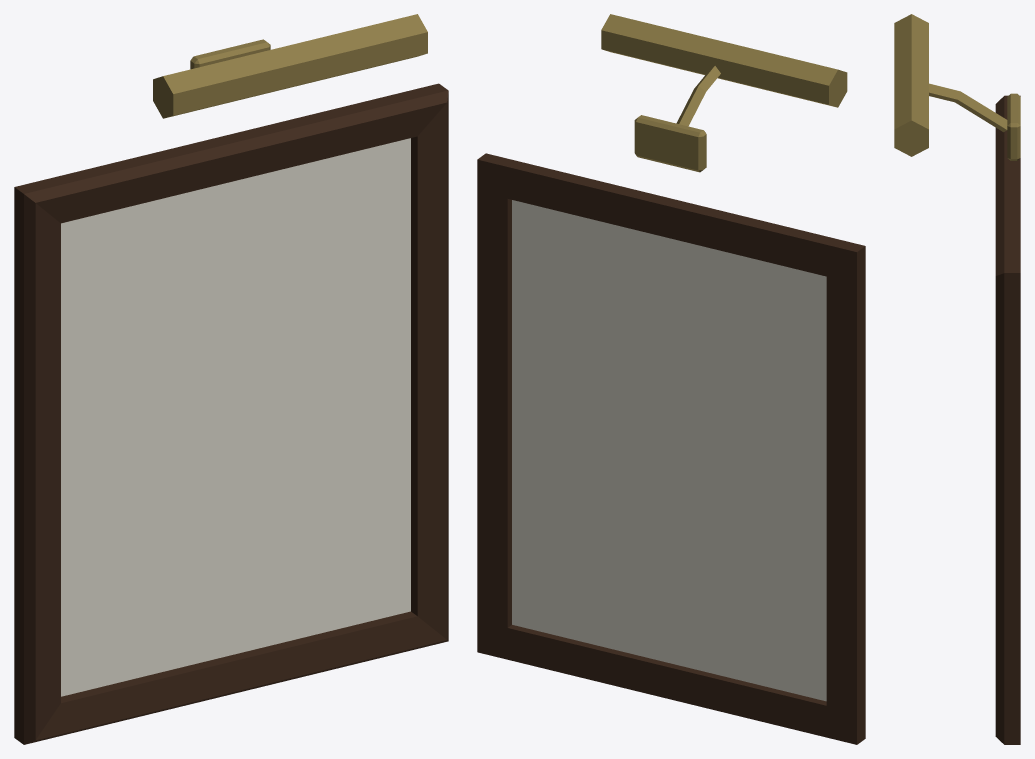
File: frame_small.glb
3 renders of one model, left to right at view 1: azimuth 30°, elevation 25°; view 2: azimuth 150°, elevation 25°; view 3: azimuth 270°, elevation 25°, orthographic. The views are drawn at different scales.
Visible parts, largest first — view 1: Paspartú, Marco, Pantalla, Roseta; view 2: Paspartú, Marco, Pantalla, Roseta, Brazo; view 3: Marco, Pantalla, Brazo, Roseta.
Part boxes in pixels (x1=…): Paspartú: x1=61, y1=138, x2=410, y2=696; Marco: x1=14, y1=83, x2=448, y2=744; Pantalla: x1=153, y1=14, x2=427, y2=118; Roseta: x1=190, y1=39, x2=270, y2=69; Paspartú: x1=512, y1=200, x2=826, y2=701; Marco: x1=477, y1=153, x2=865, y2=744; Pantalla: x1=601, y1=14, x2=847, y2=107; Roseta: x1=634, y1=115, x2=706, y2=172; Brazo: x1=676, y1=66, x2=720, y2=126; Marco: x1=995, y1=95, x2=1020, y2=744; Pantalla: x1=894, y1=14, x2=928, y2=156; Brazo: x1=929, y1=83, x2=1007, y2=132; Roseta: x1=1007, y1=93, x2=1020, y2=160.
Size of the model in its own units: 0.5 by 0.774 by 0.1508.
